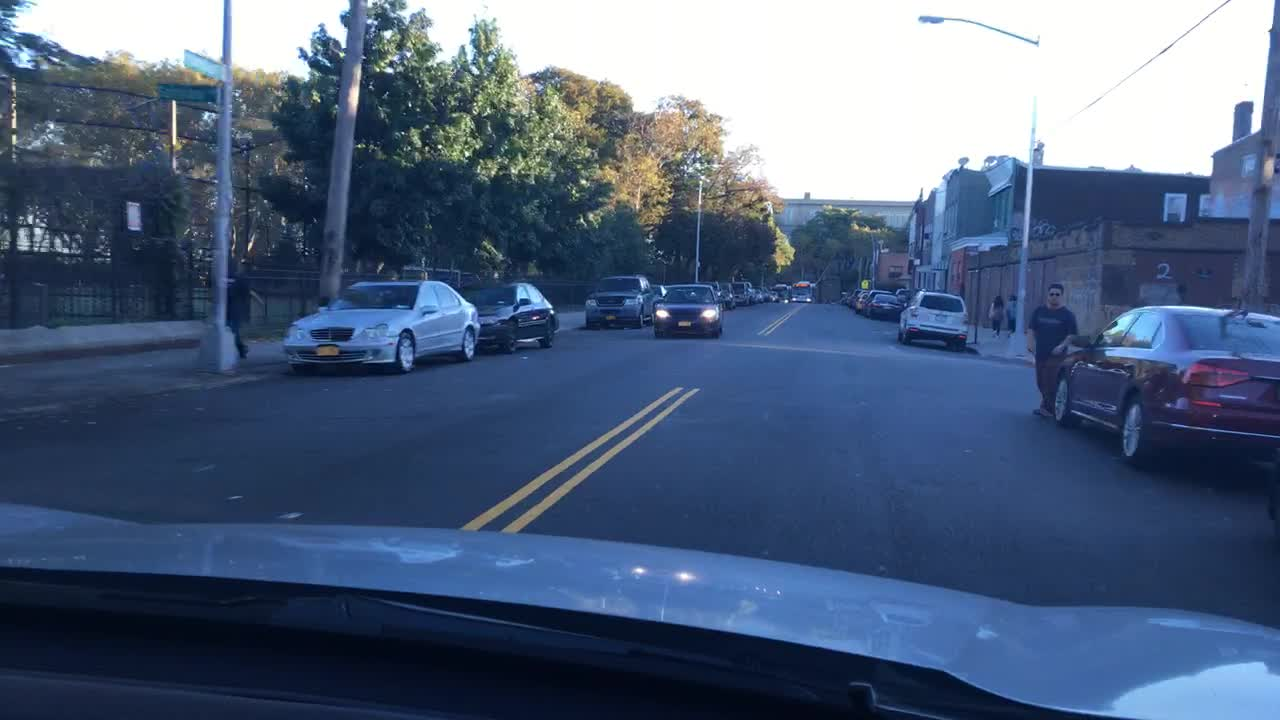bus: (790, 279, 816, 303), (772, 283, 792, 303)
car: (1053, 302, 1278, 470), (280, 278, 481, 376), (458, 281, 558, 352), (896, 288, 967, 350), (583, 271, 656, 328), (651, 281, 721, 337), (868, 293, 900, 321), (697, 278, 723, 307), (862, 287, 889, 313), (718, 281, 736, 308), (730, 281, 747, 306), (740, 279, 756, 303), (854, 288, 870, 311), (649, 284, 665, 301), (847, 287, 860, 305), (756, 284, 768, 301), (751, 287, 763, 303), (766, 287, 779, 300), (838, 287, 850, 301)
person: (1024, 283, 1078, 417), (217, 251, 265, 358), (988, 293, 1006, 340), (1006, 293, 1020, 338)
traffic sign: (180, 48, 229, 81), (154, 81, 220, 103), (123, 199, 143, 231), (860, 278, 869, 289)
